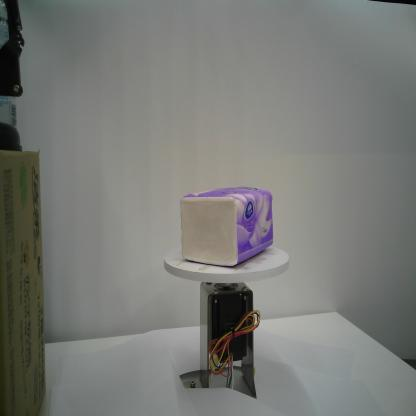Tissue: (179, 182, 275, 270)
